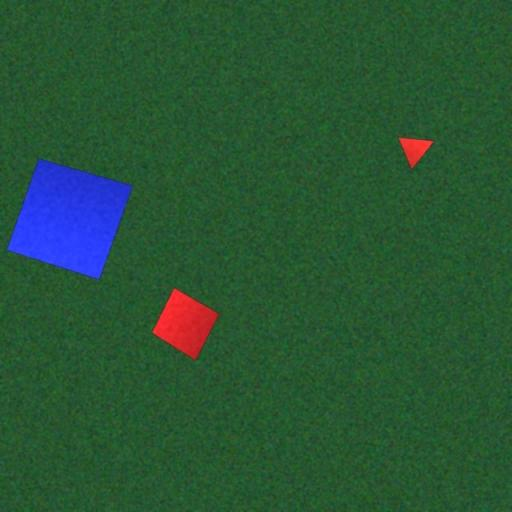BLUE_SQUARE: (6, 158, 134, 280)
RED_SQUARE: (150, 286, 221, 361)
